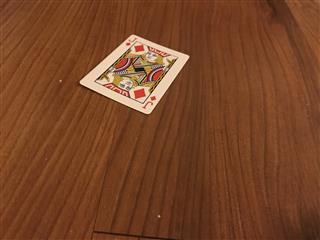JackOfDiamonds: (78, 33, 190, 114)
